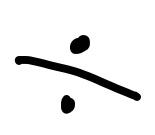div: (13, 32, 142, 111)
